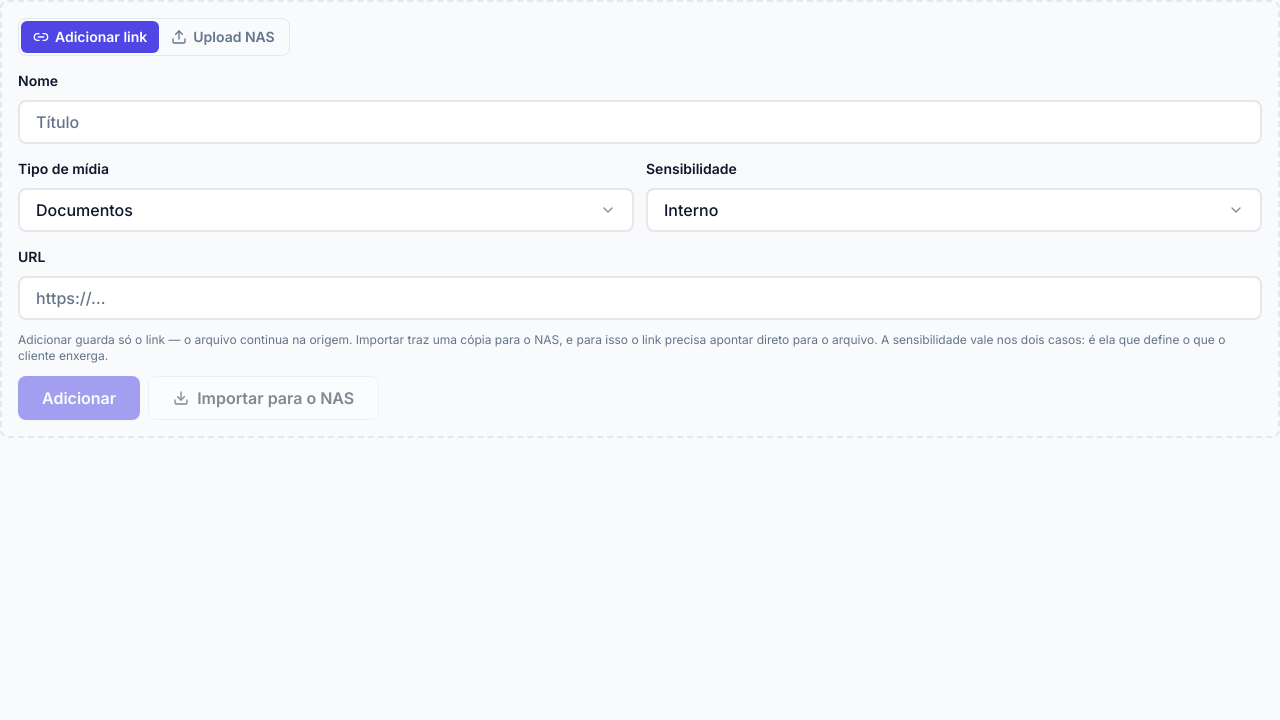
AddArtifactForm — aba de link › importar fica desabilitado quando o tipo só existe como link
Type "Tela" into the field labelled "Nome" at [640, 122], box [18,100,1262,144]
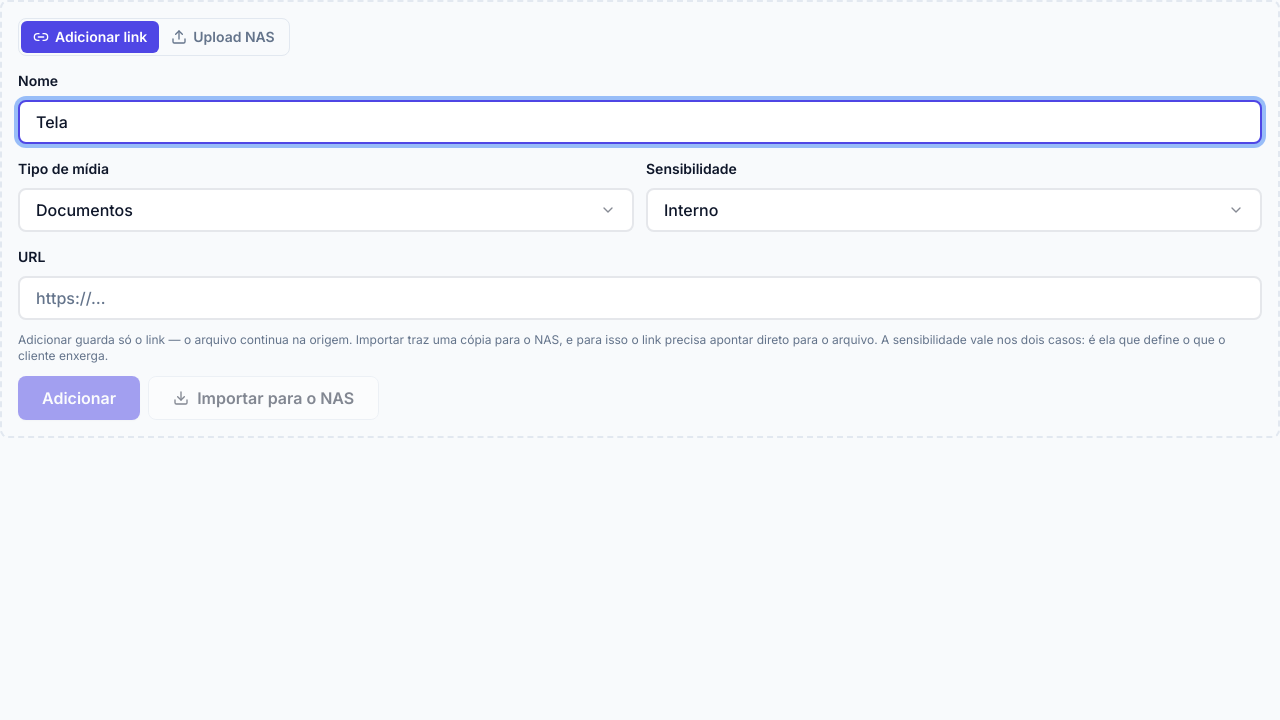
Type "https://figma.com/file/abc" into the field labelled "URL" at [640, 298], box [18,276,1262,320]
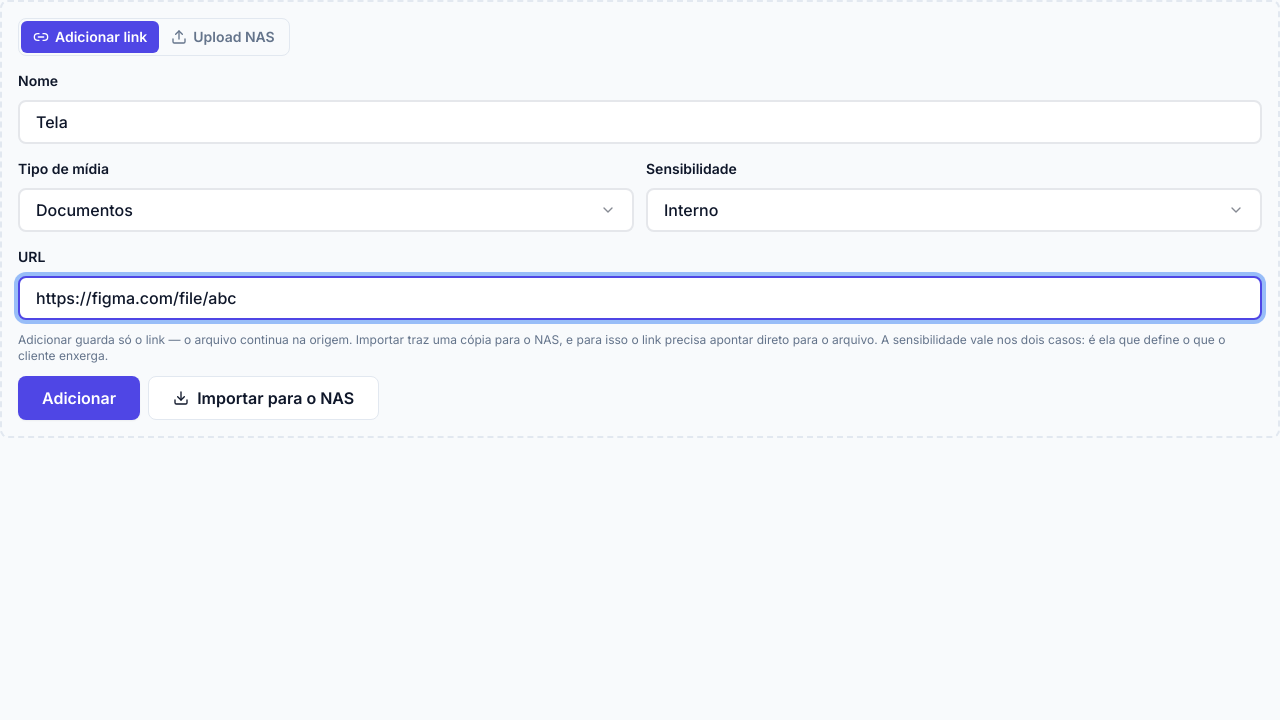
Click the dropdown named "tipo de mídia" at [84, 210], box [18,188,634,232]
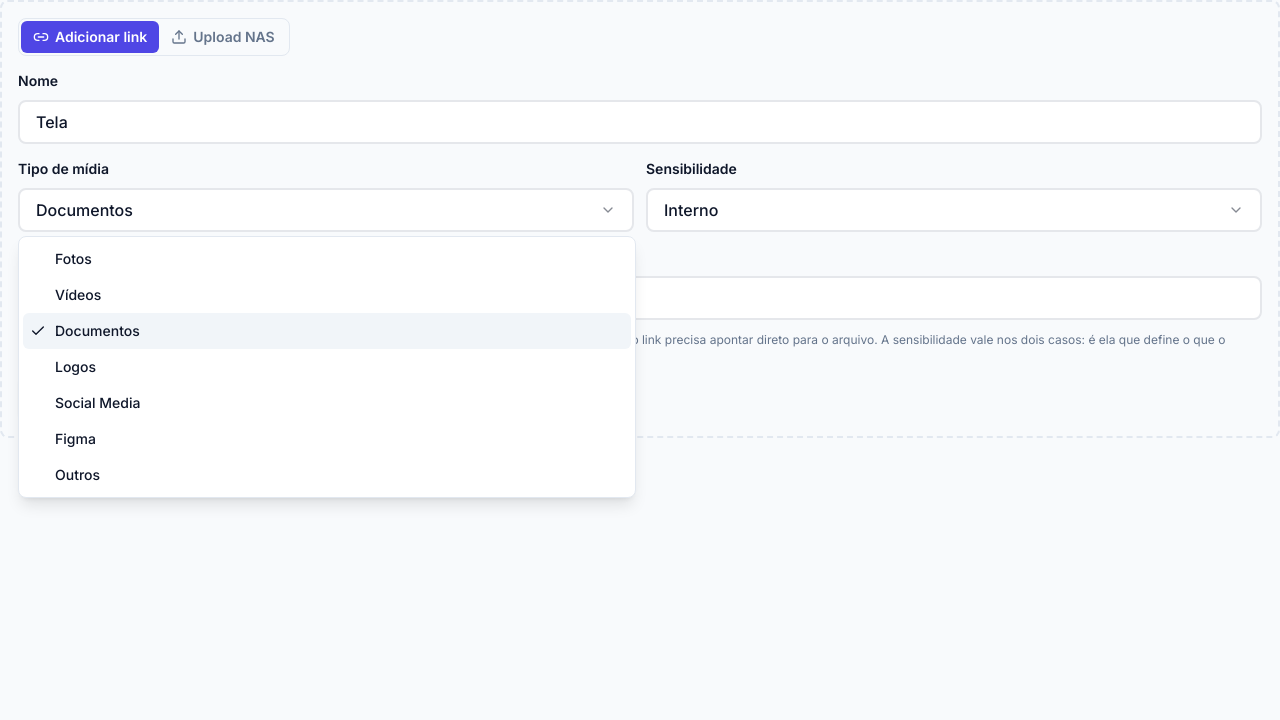
Click the option "Figma" at [75, 438], box [55,430,96,447]
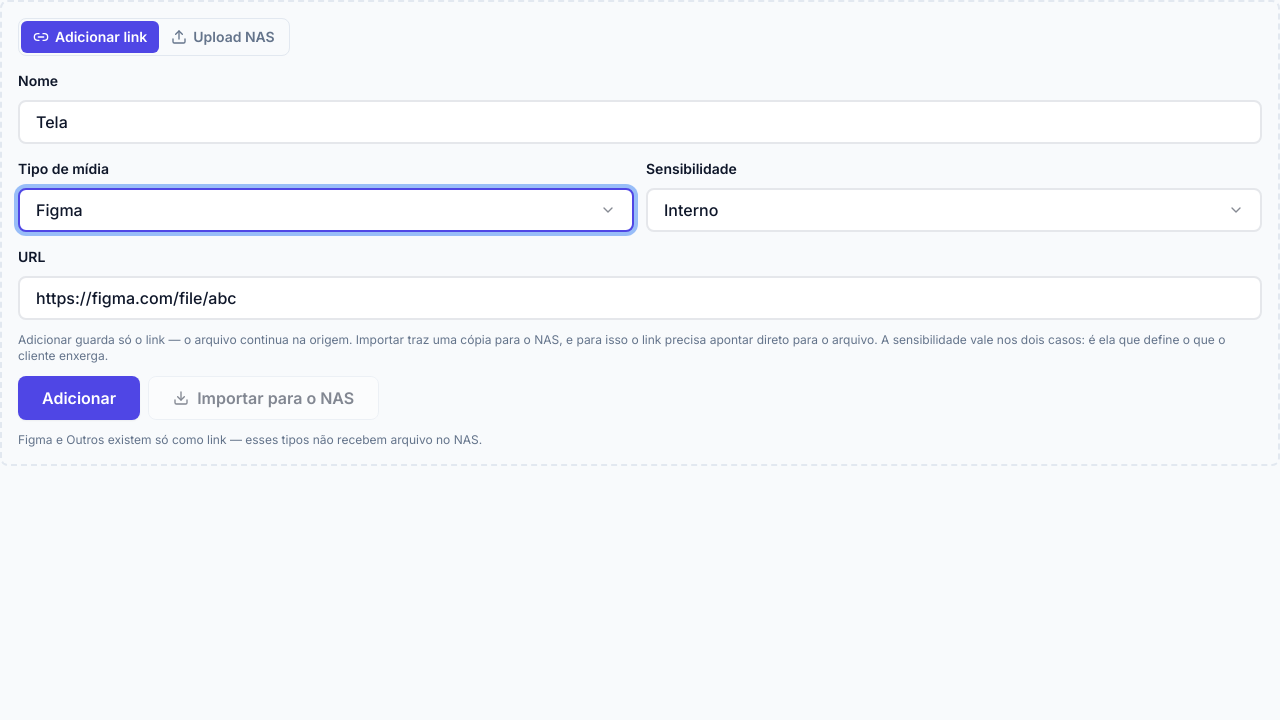
Expected: the button "Adicionar" is enabled, [18,376,140,420]
Expected: the button "Importar para o NAS" is disabled, [148,376,379,420]
Expected: the text "só como link" is shown, [18,432,482,447]
